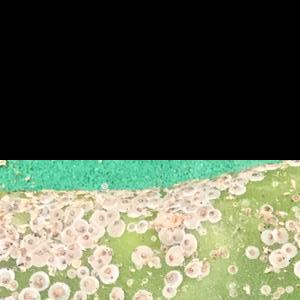Femea: (31, 274, 45, 289), (52, 283, 65, 299), (166, 249, 180, 263), (270, 252, 282, 268), (281, 244, 294, 258), (133, 248, 148, 260), (165, 271, 177, 286), (21, 290, 41, 299), (100, 264, 117, 274), (262, 229, 273, 244), (107, 220, 121, 231), (81, 276, 92, 290), (183, 263, 195, 275), (273, 228, 283, 242), (22, 237, 36, 247), (136, 221, 146, 235), (162, 286, 176, 296), (93, 211, 104, 223), (86, 224, 100, 233), (178, 243, 192, 252), (209, 209, 219, 221), (199, 208, 209, 220), (54, 247, 66, 257), (64, 227, 74, 239), (245, 247, 256, 257), (124, 222, 135, 232), (105, 211, 117, 220), (230, 183, 242, 192), (27, 217, 40, 225), (93, 255, 103, 265), (45, 254, 55, 264), (97, 245, 106, 256), (75, 223, 84, 234), (48, 230, 62, 237), (72, 292, 86, 299), (250, 172, 262, 180), (66, 251, 79, 258), (285, 220, 294, 230), (51, 208, 60, 218), (76, 268, 88, 275), (57, 258, 69, 265), (67, 208, 76, 217), (78, 238, 87, 246), (227, 265, 236, 273), (42, 216, 51, 223)
